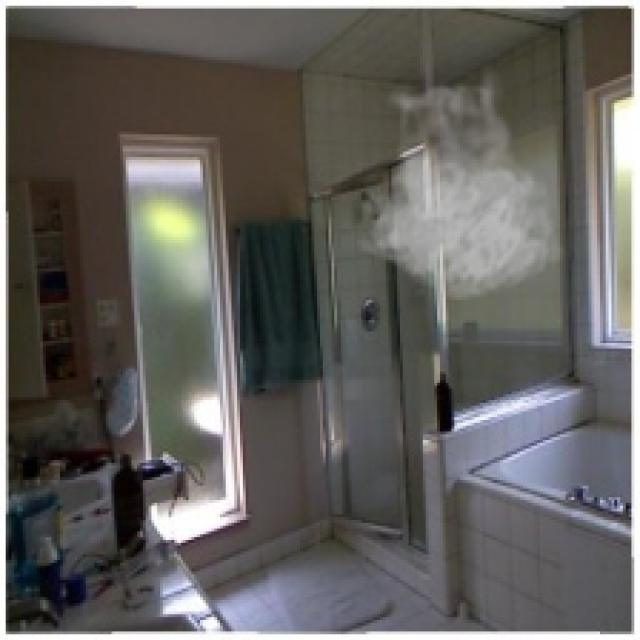smoke: (351, 66, 566, 303)
